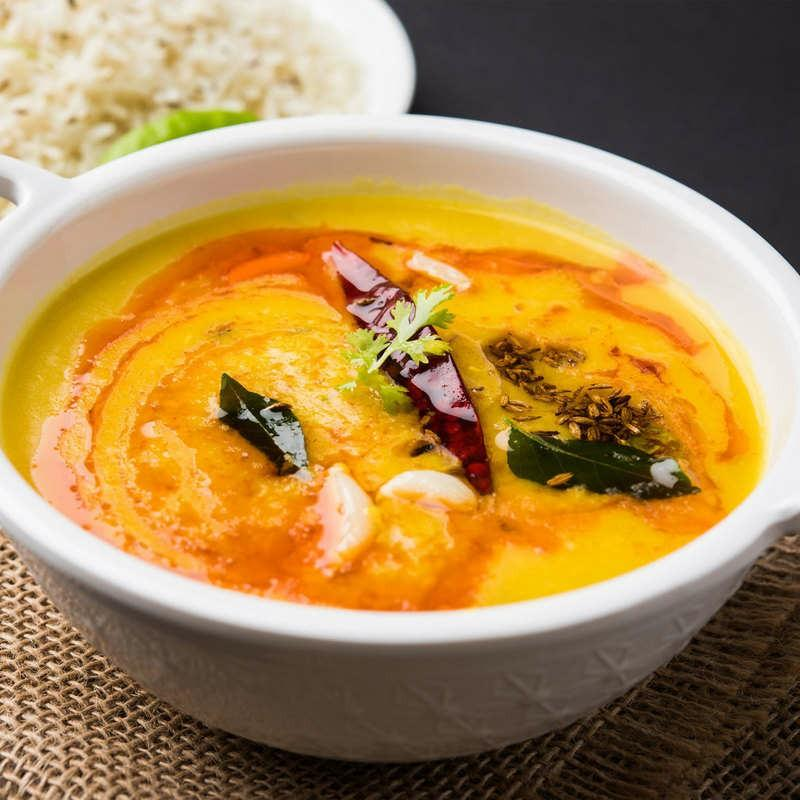Dal: (1, 189, 757, 612)
WhiteRice: (2, 0, 373, 180)
